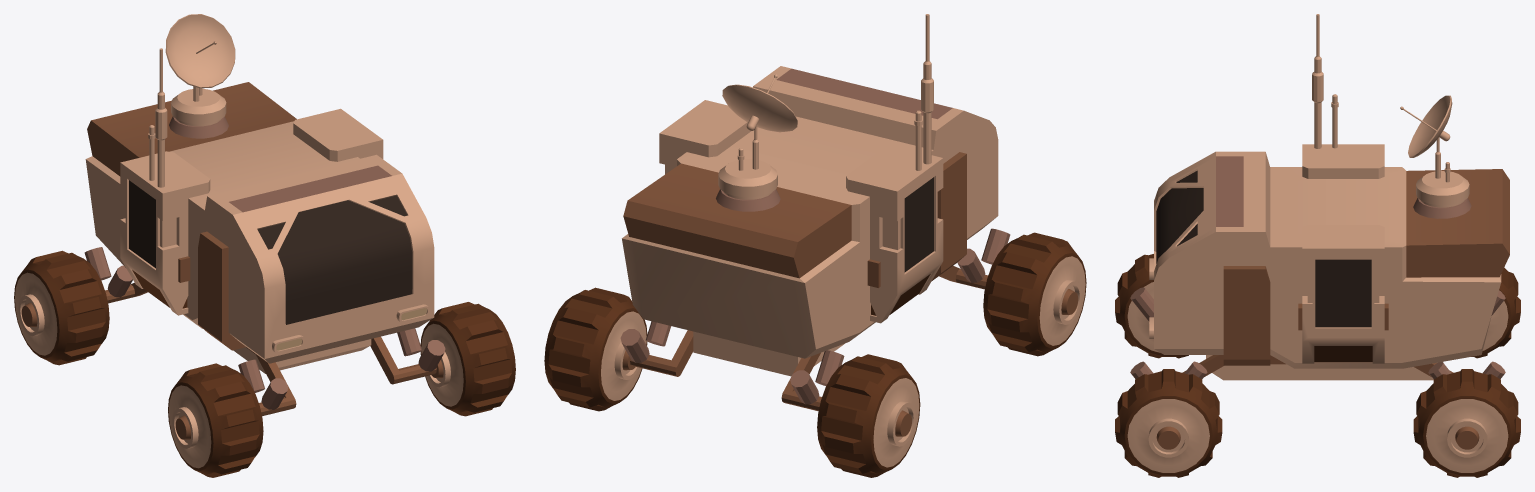
File: quaternius-ultimate-space-rover-1-transformed.glb
The picture shows the model from 3 angles, left to right: view 1: azimuth 30°, elevation 25°; view 2: azimuth 150°, elevation 25°; view 3: azimuth 270°, elevation 25°; orthographic projection. The views are drawn at different scales.
Parts seen in each view (by area): view 1: Wheel_1; view 2: Wheel_1; view 3: Wheel_1.
Part boxes in pixels (left/top/right/bottom): Wheel_1: left=14, top=14, right=515, bottom=477; Wheel_1: left=544, top=14, right=1086, bottom=477; Wheel_1: left=1115, top=14, right=1520, bottom=477.
Size of the model in its own units: 4.58 by 4.88 by 5.16.
Materials: 1 (1 with a texture image).
